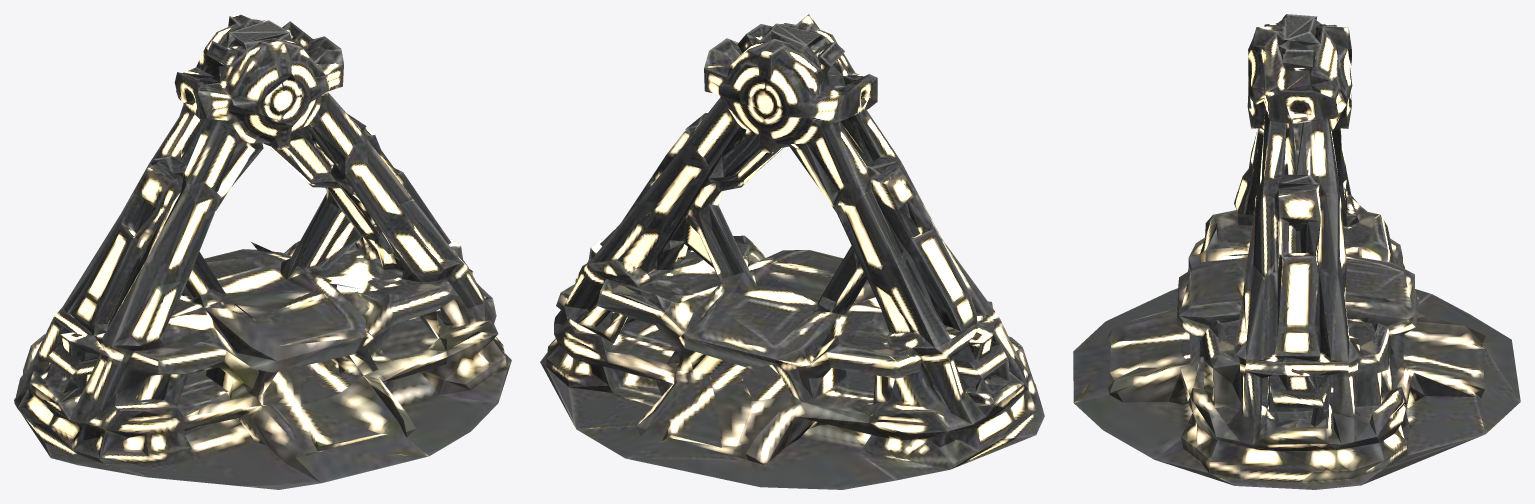
The model's file is wheel-base.glb.
The picture shows the model from 3 angles, left to right: view 1: azimuth 30°, elevation 25°; view 2: azimuth 150°, elevation 25°; view 3: azimuth 270°, elevation 25°; orthographic projection.
Parts seen in each view (by area): view 1: Mesh_0; view 2: Mesh_0; view 3: Mesh_0.
Part boxes in pixels (x1,y1,x2,y2): Mesh_0: (14, 14, 511, 489); Mesh_0: (540, 14, 1044, 489); Mesh_0: (1073, 14, 1520, 489).
Size of the model in its own units: 6.57 by 5 by 5.7.
Materials: 1 (1 with a texture image).
